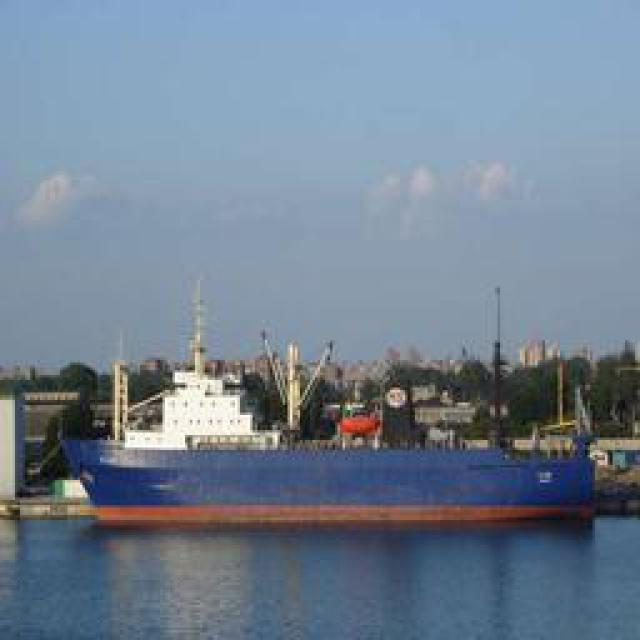Ship: (66, 319, 596, 529)
